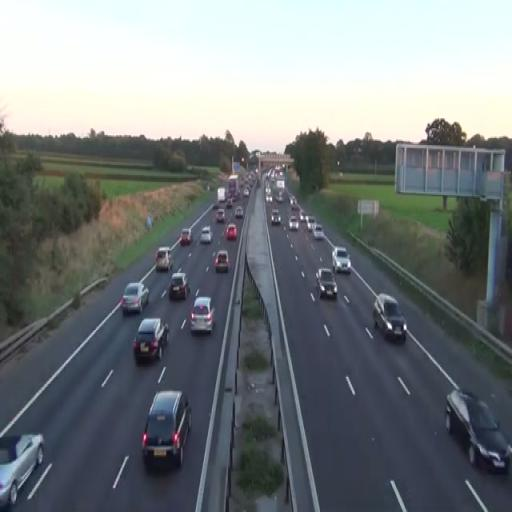Car: (444, 388, 511, 476), (141, 389, 192, 471), (0, 433, 45, 507), (372, 292, 407, 344), (132, 317, 170, 364), (190, 295, 216, 335), (120, 282, 150, 316), (316, 267, 338, 300), (168, 272, 188, 301), (332, 248, 351, 274), (155, 246, 173, 272), (214, 250, 230, 273), (226, 224, 238, 240)
